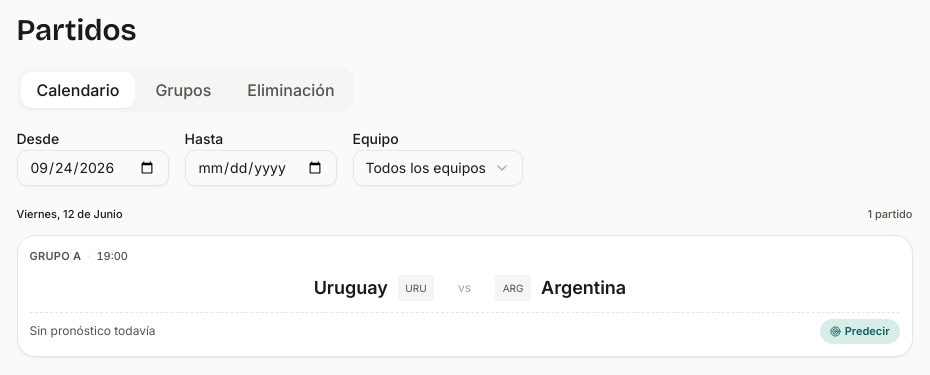
Test: FixturePage › shows the "Según tus pronósticos" note above the group tables
The width and height of the screenshot is (930, 375).
Click the tab "Grupos" at (183,90), box [139, 72, 227, 108]
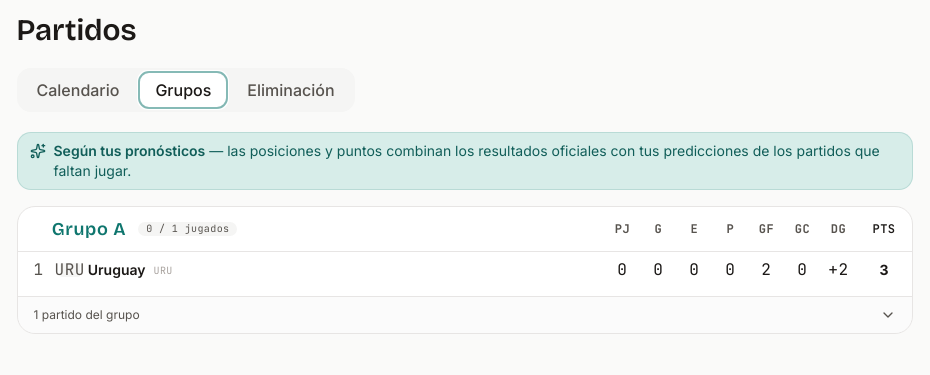
Expected: the heading "Grupo A" is shown, [52, 215, 126, 243]
Expected: the text "Según tus pronósticos" is shown, [54, 142, 205, 159]
